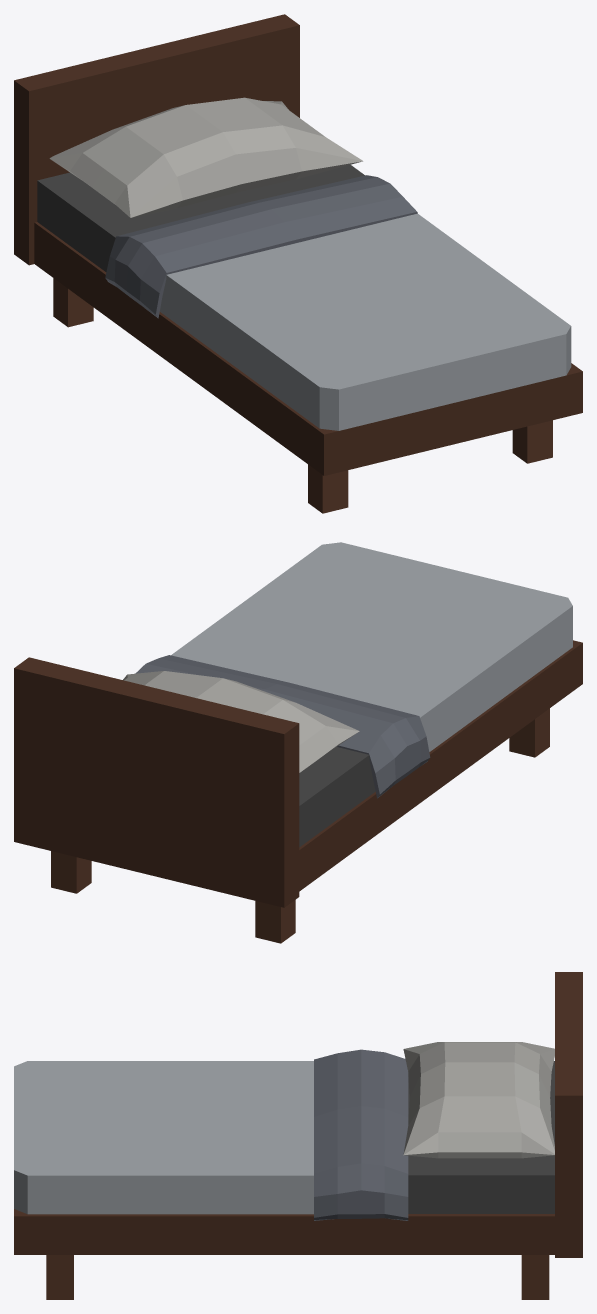
The model's file is Bed_2C.fbx.
The picture shows the model from 3 angles, top to bottom: view 1: azimuth 30°, elevation 25°; view 2: azimuth 150°, elevation 25°; view 3: azimuth 270°, elevation 25°; orthographic projection. The views are drawn at different scales.
Parts seen in each view (by area): view 1: polySurface1821; view 2: polySurface1821; view 3: polySurface1821.
Part boxes in pixels (x1,y1,x2,y2): polySurface1821: (14,14,582,513); polySurface1821: (14,542,582,943); polySurface1821: (14,972,582,1299).
Bounding box in the file's own units: 2.11 × 1.65 × 4.
1 material, 1 textured.
